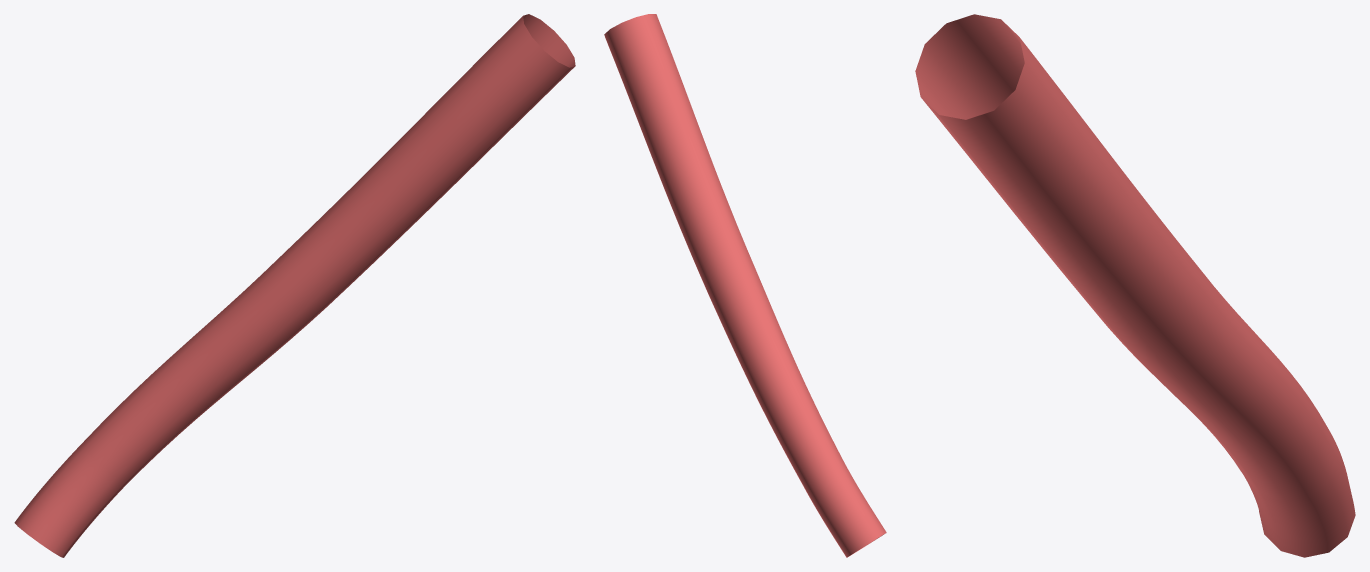
File: Ileocolic_artery.glb
3 views of the same model, side by side, from view 1: azimuth 30°, elevation 25°; view 2: azimuth 150°, elevation 25°; view 3: azimuth 270°, elevation 25° (orthographic). The views are drawn at different scales.
Visible parts, largest first — view 1: Ileocolic_artery_BezierCurve.422; view 2: Ileocolic_artery_BezierCurve.422; view 3: Ileocolic_artery_BezierCurve.422.
Boxes of the visible parts, bbox=[...] form: Ileocolic_artery_BezierCurve.422: bbox=[14, 14, 575, 557]; Ileocolic_artery_BezierCurve.422: bbox=[604, 14, 886, 557]; Ileocolic_artery_BezierCurve.422: bbox=[915, 14, 1355, 557].
Bounding box in the file's own units: 0.0255 × 0.0282 × 0.0137.
